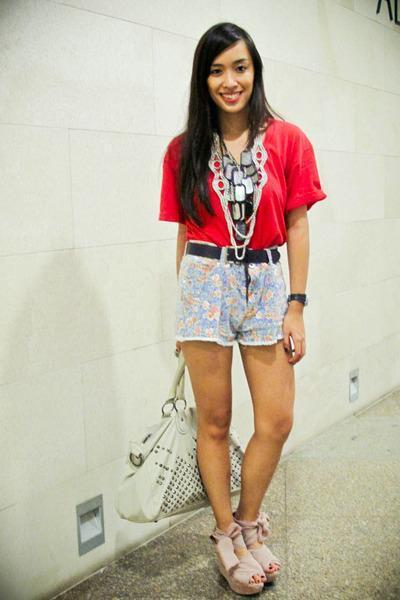bag: (113, 376, 246, 523)
jacket: (159, 118, 323, 248)
shirt: (209, 132, 267, 253)
shoe: (214, 520, 279, 587)
shorts: (169, 252, 289, 371)
